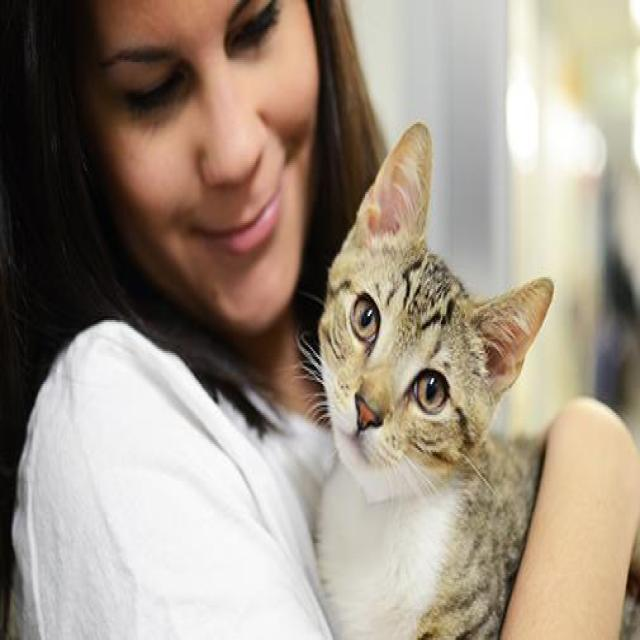Cat: (304, 109, 558, 488)
